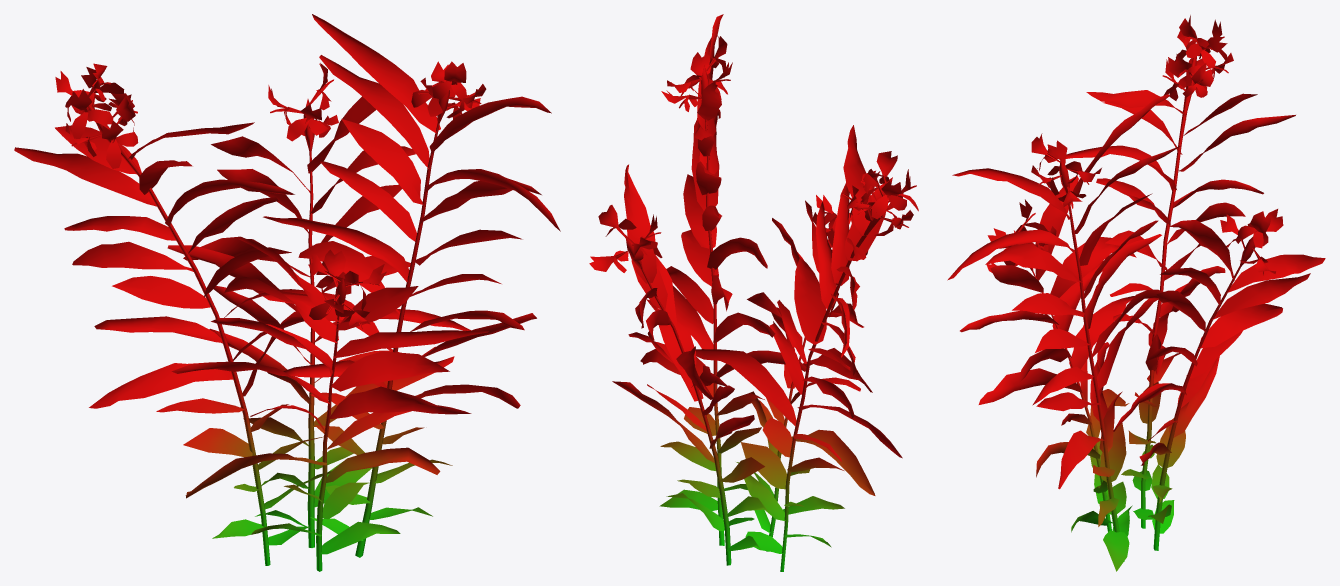
The model's file is Var1_LOD1.fbx.
3 renders of one model, left to right at view 1: azimuth 30°, elevation 25°; view 2: azimuth 150°, elevation 25°; view 3: azimuth 270°, elevation 25°, orthographic. The views are drawn at different scales.
Visible parts, largest first — view 1: _5a9b_Var1_LOD1; view 2: _5a9b_Var1_LOD1; view 3: _5a9b_Var1_LOD1.
Boxes of the visible parts, x1,y1,x2,y2 form: _5a9b_Var1_LOD1: (14,14,560,571); _5a9b_Var1_LOD1: (589,14,918,571); _5a9b_Var1_LOD1: (947,15,1325,571).
Size of the model in its own units: 103 by 136 by 102.
